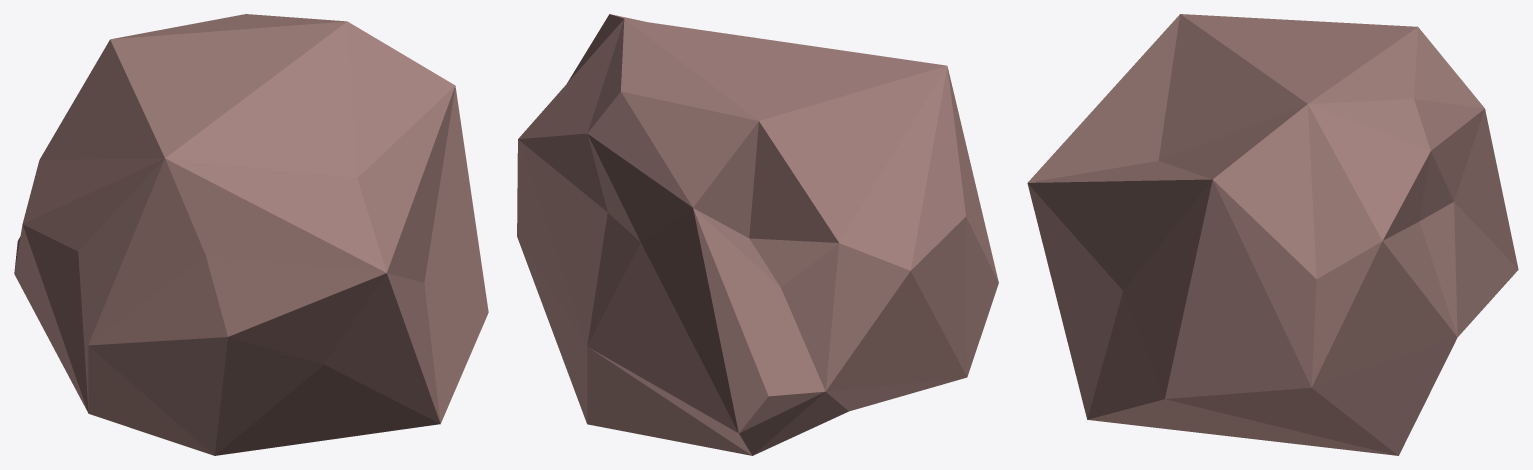
File: stone4A(F65).obj
3 views of the same model, side by side, from view 1: azimuth 30°, elevation 25°; view 2: azimuth 150°, elevation 25°; view 3: azimuth 270°, elevation 25° (orthographic). The views are drawn at different scales.
Parts seen in each view (by area): view 1: Icosphere.003; view 2: Icosphere.003; view 3: Icosphere.003.
Boxes of the visible parts, x1,y1,x2,y2 form: Icosphere.003: [14, 14, 488, 455]; Icosphere.003: [517, 14, 998, 455]; Icosphere.003: [1027, 14, 1518, 455].
Size of the model in its own units: 2.91 by 2.46 by 2.98.
